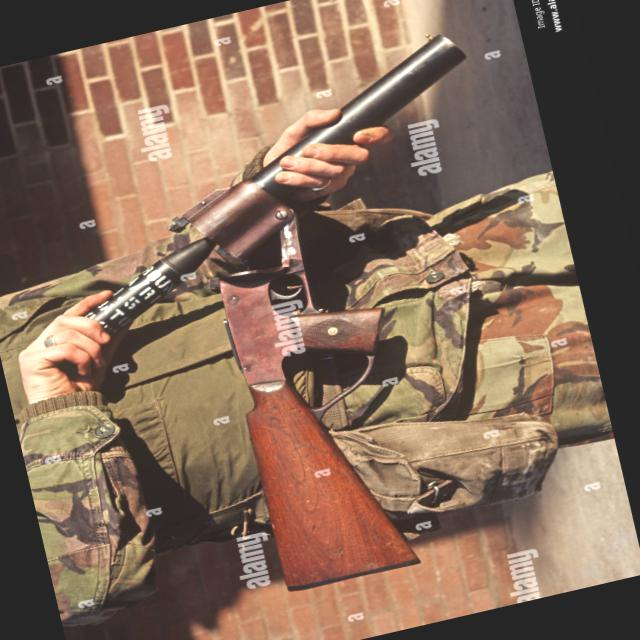long weapon: (172, 19, 596, 628)
